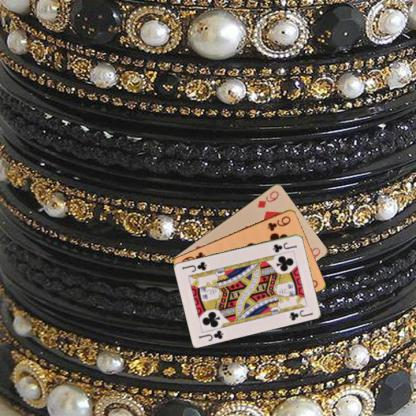9c: (264, 213, 292, 232)
9d: (255, 188, 280, 209)
Jc: (196, 328, 225, 342), (271, 239, 298, 254)
